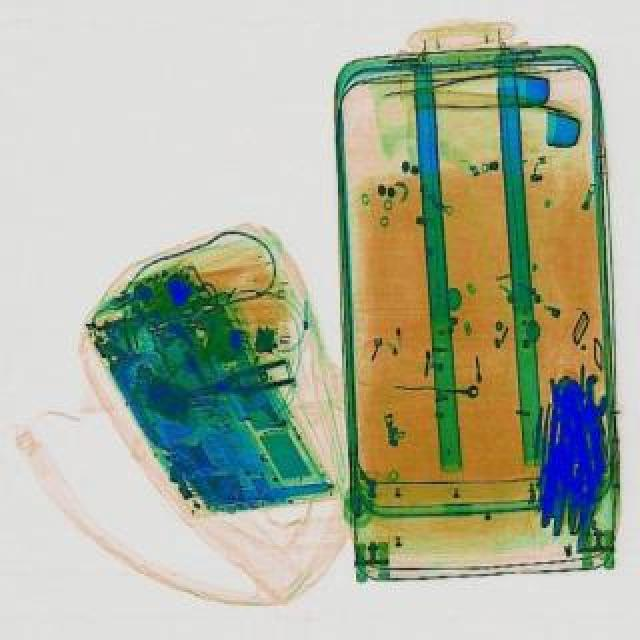wrench: (186, 360, 296, 412)
